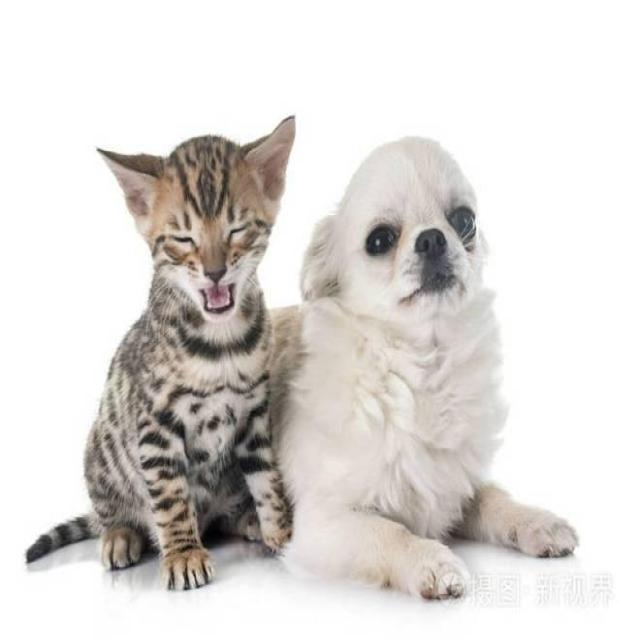cat: (69, 104, 327, 360)
dog: (303, 133, 524, 368)
